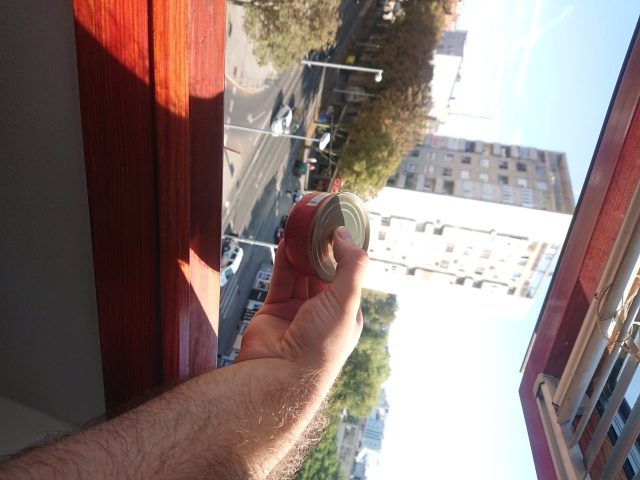Gavrilovic Pork Liver Pate 100g: (281, 188, 373, 288)
